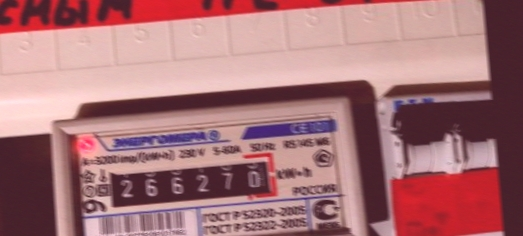0: (244, 166, 260, 187)
2: (118, 176, 133, 198), (195, 171, 209, 192)
6: (143, 175, 157, 196), (169, 173, 183, 193)
7: (221, 169, 232, 189)
screen: (95, 146, 282, 216)
